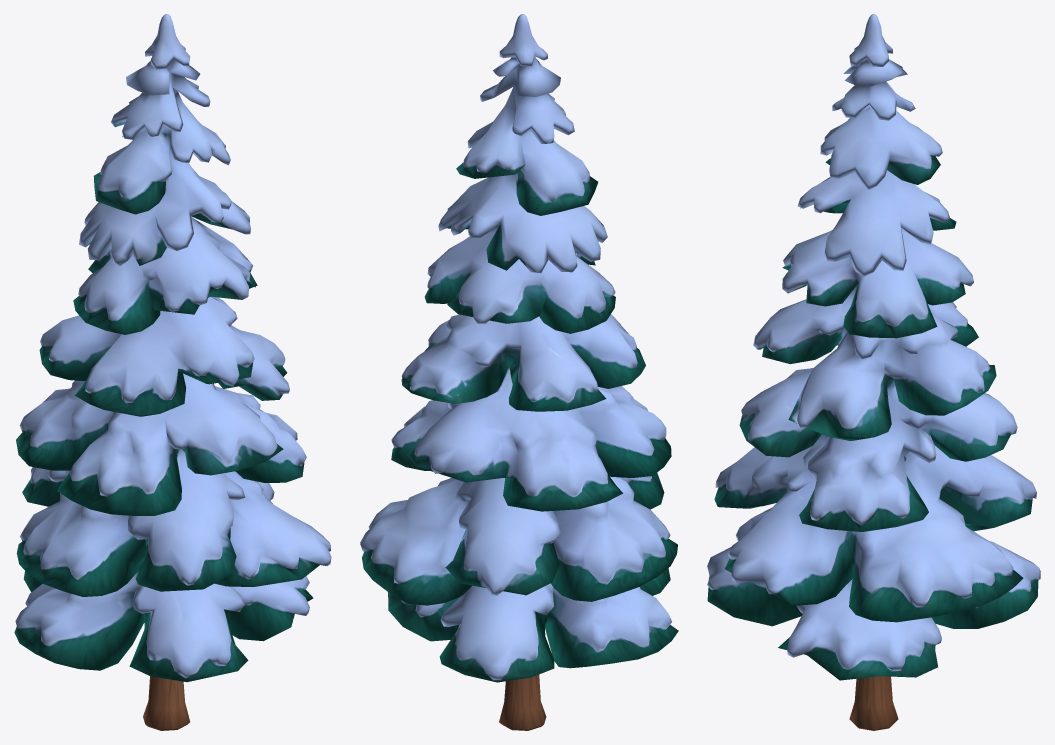
The model's file is tree-1-tall.glb.
3 views of the same model, side by side, from view 1: azimuth 30°, elevation 25°; view 2: azimuth 150°, elevation 25°; view 3: azimuth 270°, elevation 25° (orthographic).
Visible parts, largest first — view 1: tripo_node_22227915-2ece-43a5-b570-7c75fbee1e84; view 2: tripo_node_22227915-2ece-43a5-b570-7c75fbee1e84; view 3: tripo_node_22227915-2ece-43a5-b570-7c75fbee1e84.
Boxes of the visible parts, bbox=[...] form: tripo_node_22227915-2ece-43a5-b570-7c75fbee1e84: bbox=[14, 14, 331, 730]; tripo_node_22227915-2ece-43a5-b570-7c75fbee1e84: bbox=[360, 14, 678, 730]; tripo_node_22227915-2ece-43a5-b570-7c75fbee1e84: bbox=[707, 14, 1040, 730].
Bounding box in the file's own units: 0.4089 × 1 × 0.4275.
Materials: 1 (1 with a texture image).
